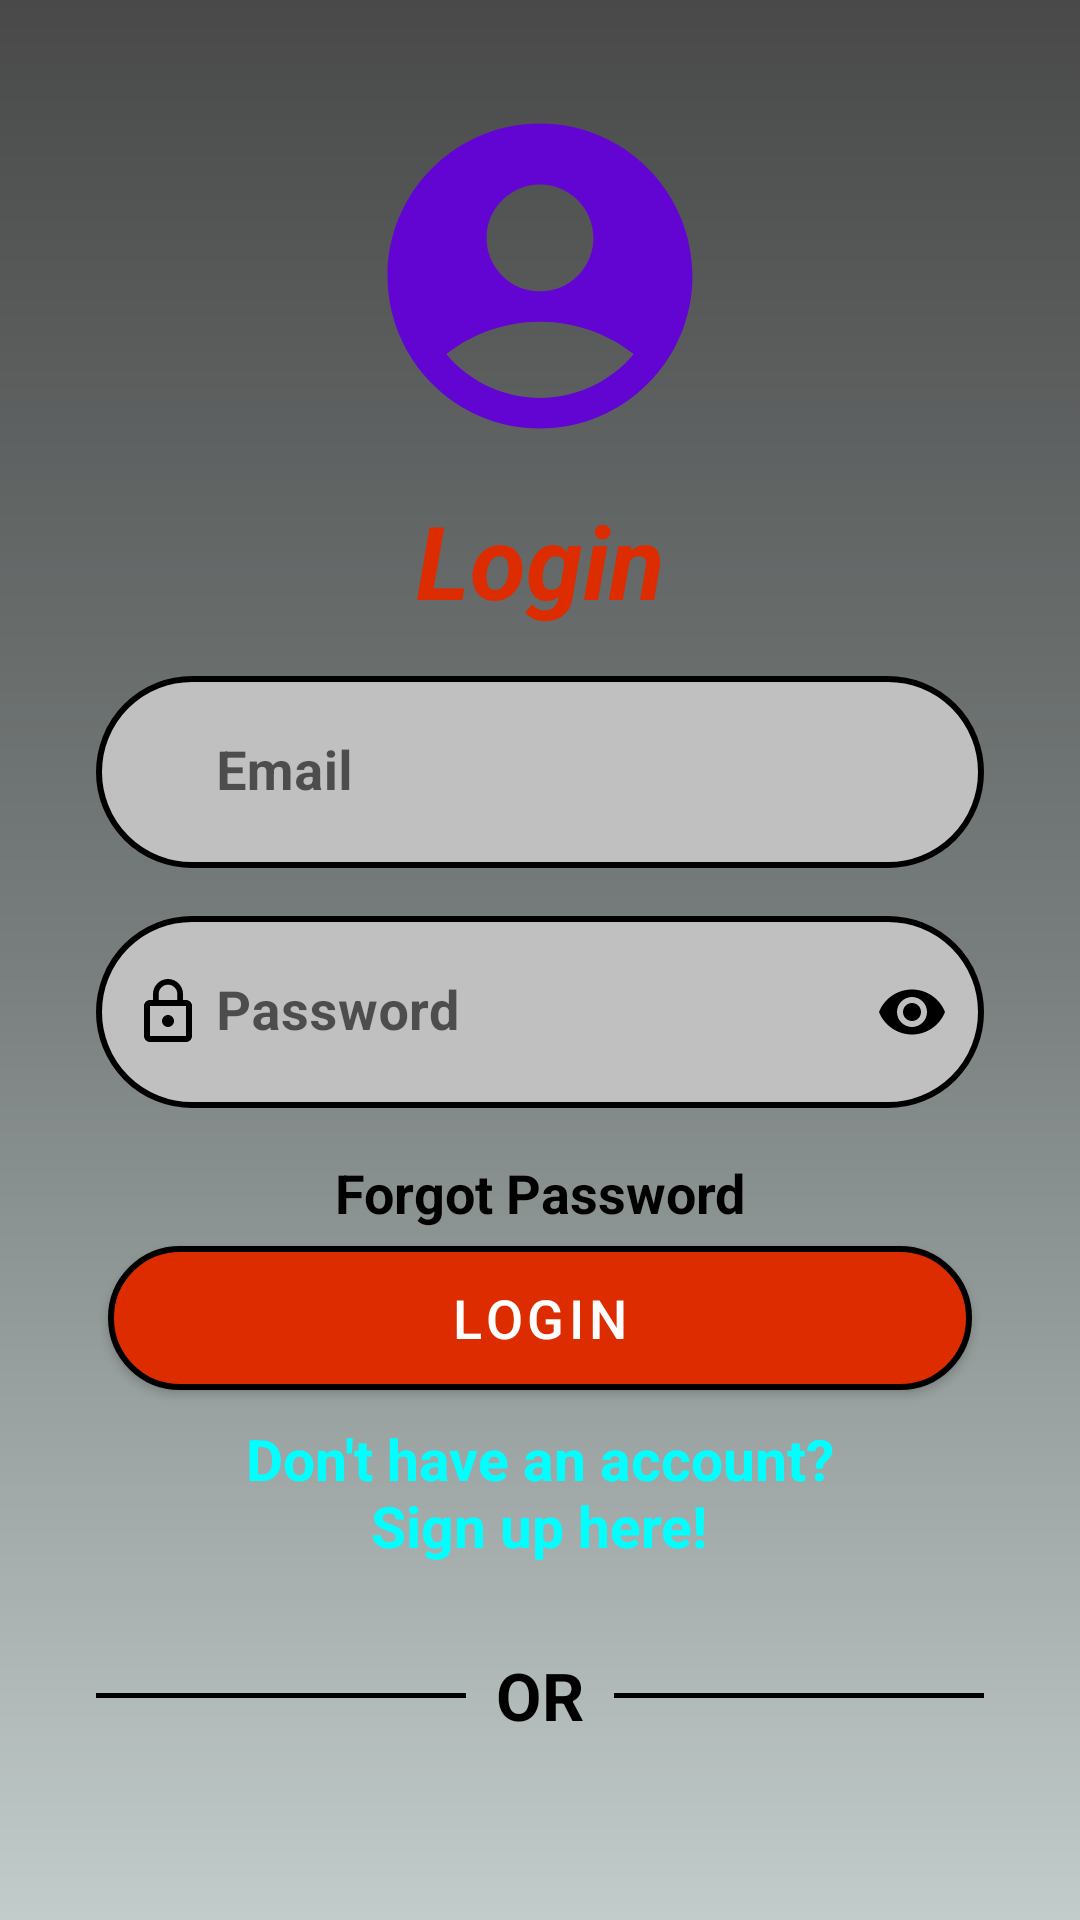

Named icons in this screenshot (1080px x 1920px) and their bounding boxes, Rect(x1, y1, x2, y2):
account circle: Rect(387, 123, 693, 429)
